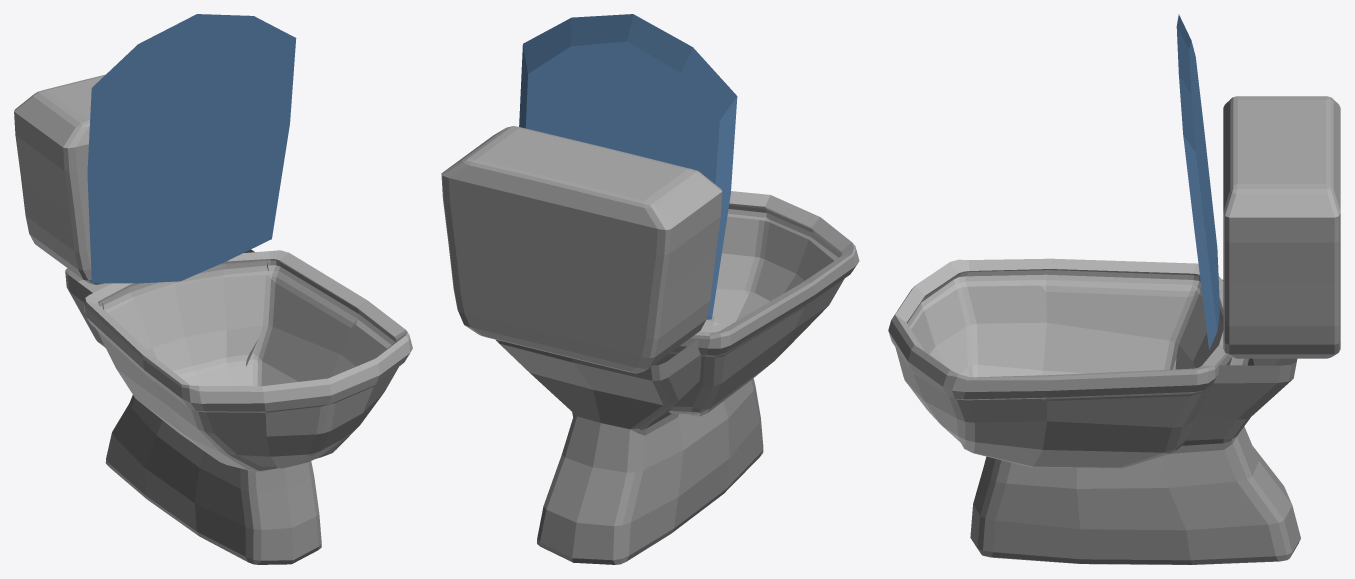
Rendered from toilet.glb.
The picture shows the model from 3 angles, left to right: view 1: azimuth 30°, elevation 25°; view 2: azimuth 150°, elevation 25°; view 3: azimuth 270°, elevation 25°; orthographic projection. The views are drawn at different scales.
Parts seen in each view (by area): view 1: Cube, Cube.001, Cube.002, Cube.003; view 2: Cube.003, Cube.002, Cube.001, Cube; view 3: Cube, Cube.002, Cube.003, Cube.001.
Part boxes in pixels (bbox=[...]): Cube: bbox=[84, 250, 412, 471]; Cube.001: bbox=[87, 14, 296, 283]; Cube.002: bbox=[65, 249, 321, 564]; Cube.003: bbox=[14, 74, 105, 284]; Cube.003: bbox=[441, 126, 722, 373]; Cube.002: bbox=[496, 339, 763, 564]; Cube.001: bbox=[519, 14, 737, 319]; Cube: bbox=[653, 191, 859, 416]; Cube: bbox=[888, 258, 1232, 468]; Cube.002: bbox=[970, 279, 1300, 564]; Cube.003: bbox=[1223, 96, 1340, 358]; Cube.001: bbox=[1176, 14, 1219, 350].
Size of the model in its own units: 1.32 by 2.71 by 2.13.
